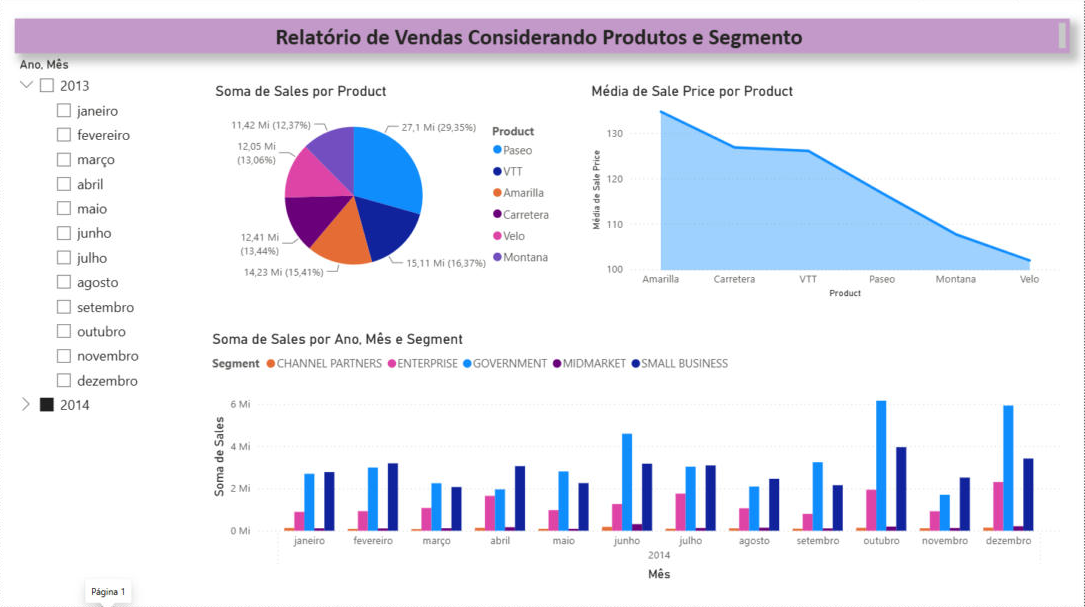

Layout of this report page (visuals, bound fields, positions):
{"tool":"powerbi","page":{"name":"Página 1","canvas":[1280,720],"ordinal":0},"visuals":[{"type":"pieChart","fields":{"Category":["financials.Product"],"Y":["Sum(financials. Sales)"]},"box":[250.2,100.4,413.8,248.9],"z":0},{"type":"areaChart","fields":{"Category":["financials.Product"],"Y":["Avg(financials.Sale Price)"]},"box":[694.3,100.4,562.3,259.8],"z":1000},{"type":"clusteredColumnChart","fields":{"Y":["Sum(financials. Sales)"],"Category":["financials.Date.Variation.Hierarquia de datas.Ano","financials.Date.Variation.Hierarquia de datas.Mês"],"Series":["financials.Segment"]},"box":[246.1,393.2,1010.5,301.1],"z":2000},{"type":"slicer","fields":{"Values":["financials.Date.Variation.Hierarquia de datas.Ano","financials.Date.Variation.Hierarquia de datas.Mês"]},"box":[11,66,226.9,628.3],"z":3000},{"type":"textbox","box":[17.9,24.7,1245.6,41.2],"z":4000}]}

Visuals, with their boxes on the page's 1280x720 design canvas (x1, y1, x2, y2). These are canvas units, not pixel positions in the 1085x607 screenshot, which may show the page scaled, cropped or inside an application window:
pieChart - financials.Product x Sum(financials. Sales): <bbox>250, 100, 664, 349</bbox>
areaChart - financials.Product x Avg(financials.Sale Price): <bbox>694, 100, 1257, 360</bbox>
clusteredColumnChart - Sum(financials. Sales) x financials.Date.Variation.Hierarquia de datas.Ano: <bbox>246, 393, 1257, 694</bbox>
slicer - financials.Date.Variation.Hierarquia de datas.Ano x financials.Date.Variation.Hierarquia de datas.Mês: <bbox>11, 66, 238, 694</bbox>
textbox: <bbox>18, 25, 1264, 66</bbox>
